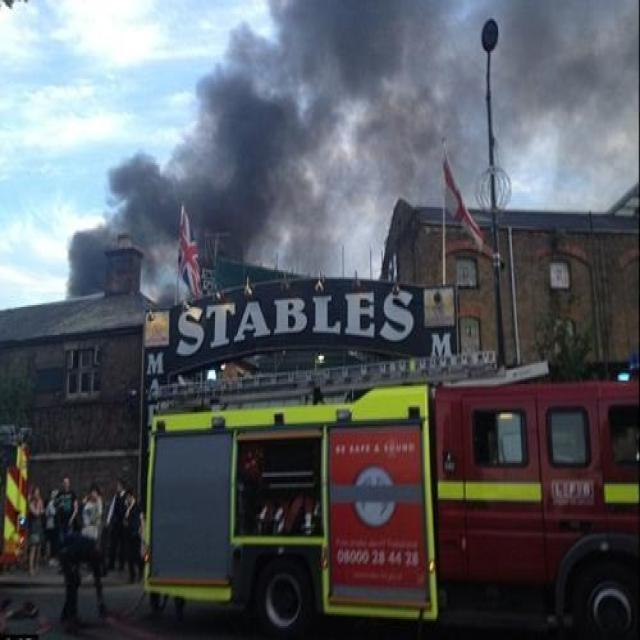Smoke: (64, 0, 640, 309)
